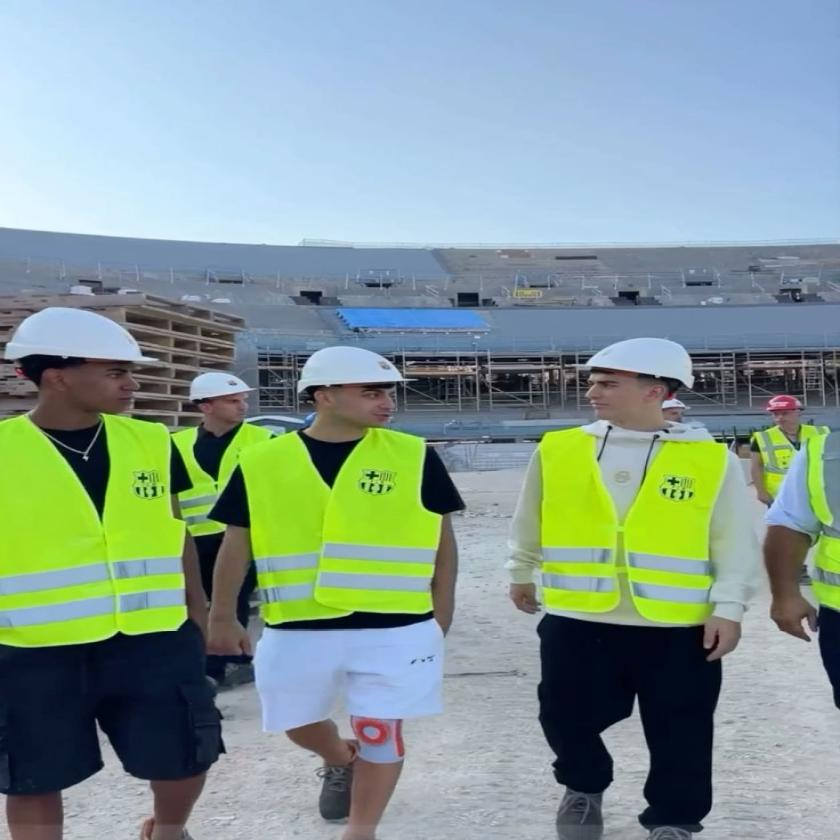Con_casco: (0, 302, 165, 438), (568, 334, 706, 427), (285, 345, 415, 438), (180, 369, 258, 442)
